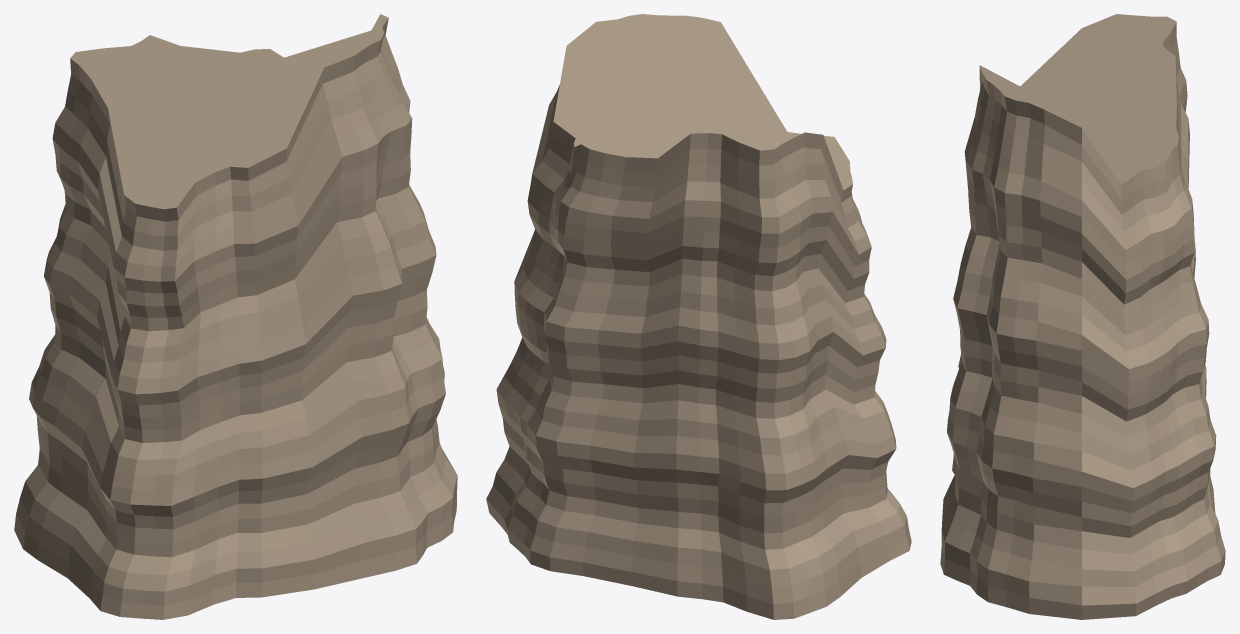
File: cliff1.glb
3 renders of one model, left to right at view 1: azimuth 30°, elevation 25°; view 2: azimuth 150°, elevation 25°; view 3: azimuth 270°, elevation 25°, orthographic. The views are drawn at different scales.
Parts seen in each view (by area): view 1: cliff1_cliff; view 2: cliff1_cliff; view 3: cliff1_cliff.
Part boxes in pixels (left/top/right/bottom): cliff1_cliff: left=14, top=14, right=457, bottom=619; cliff1_cliff: left=486, top=14, right=911, bottom=619; cliff1_cliff: left=940, top=14, right=1225, bottom=619.
Bounding box in the file's own units: 54.24 × 67.2 × 36.44.
